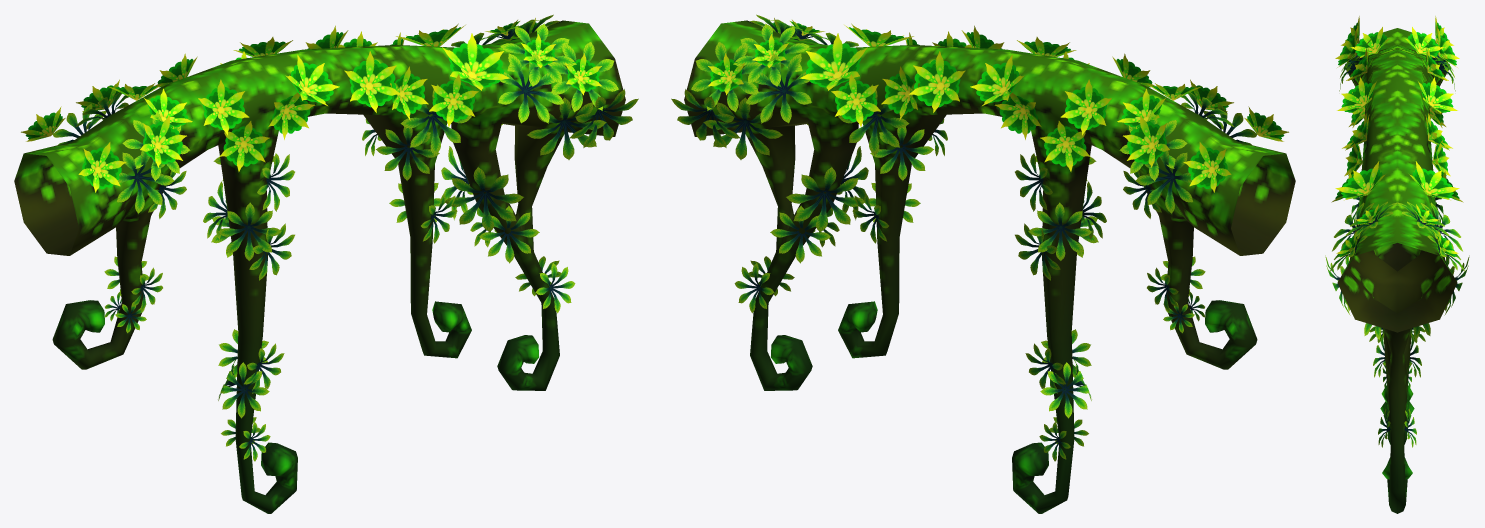
The model's file is Green_Tree_Bridge.FBX.
3 views of the same model, side by side, from view 1: azimuth 30°, elevation 25°; view 2: azimuth 150°, elevation 25°; view 3: azimuth 270°, elevation 25° (orthographic). The views are drawn at different scales.
Visible parts, largest first — view 1: Green_Tree_Bridge; view 2: Green_Tree_Bridge; view 3: Green_Tree_Bridge.
Part boxes in pixels (x1,y1,x2,y2): Green_Tree_Bridge: (14,14,638,513); Green_Tree_Bridge: (671,14,1295,513); Green_Tree_Bridge: (1325,16,1469,513).
Bounding box in the file's own units: 414 × 332 × 116.
